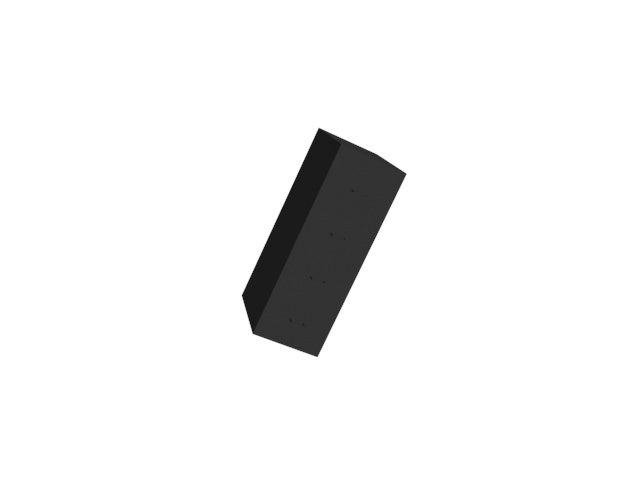file_cabinet: (241, 122, 408, 360)
